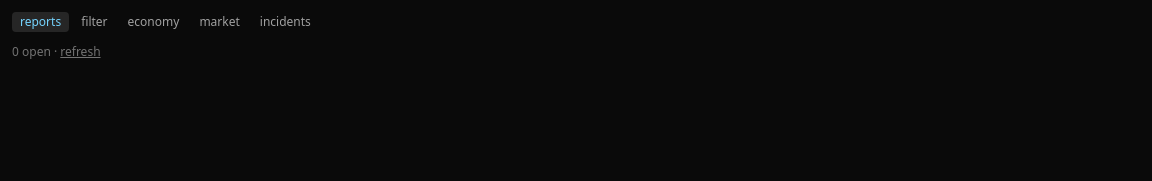
admin: start an Incident › shows the API refusal in words (a 409 when another one started meanwhile)
The width and height of the screenshot is (1152, 181).
What coordinates should you click on to do the following:
click the button with test id "admin-view-incidents"
I would click on:
 (285, 22)
Its box is [252,12,319,32].
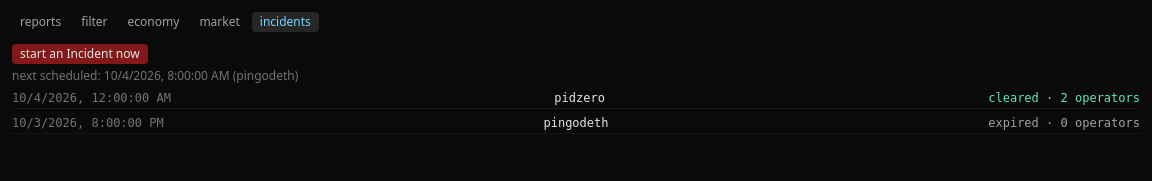
What coordinates should you click on to do the following:
click the button with test id "incident-start"
I would click on:
 (80, 54)
Its box is [12,44,148,64].
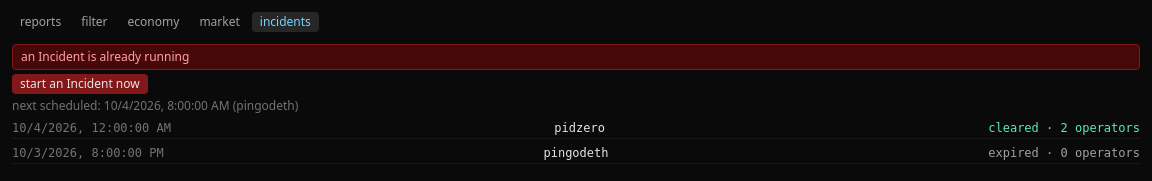
Expected: the message reads "an Incident is already running", [21,48,189,65]
